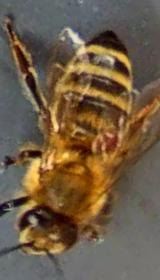varroa_mite: (90, 124, 124, 154)
